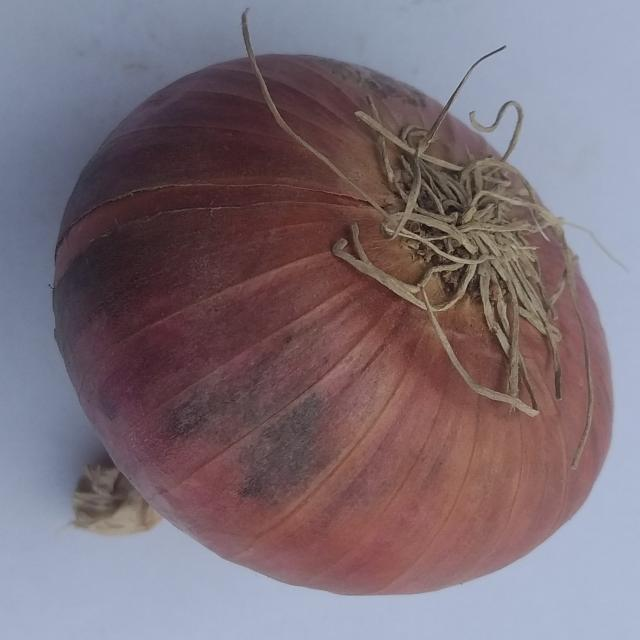onion: (48, 51, 617, 598)
